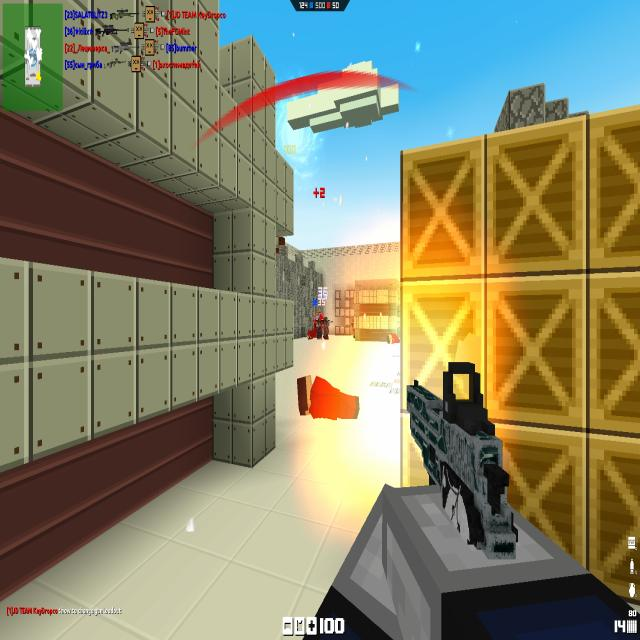player: (297, 374, 354, 418), (297, 375, 312, 416), (307, 322, 320, 340), (315, 314, 324, 339), (322, 317, 330, 340), (388, 333, 400, 344)
